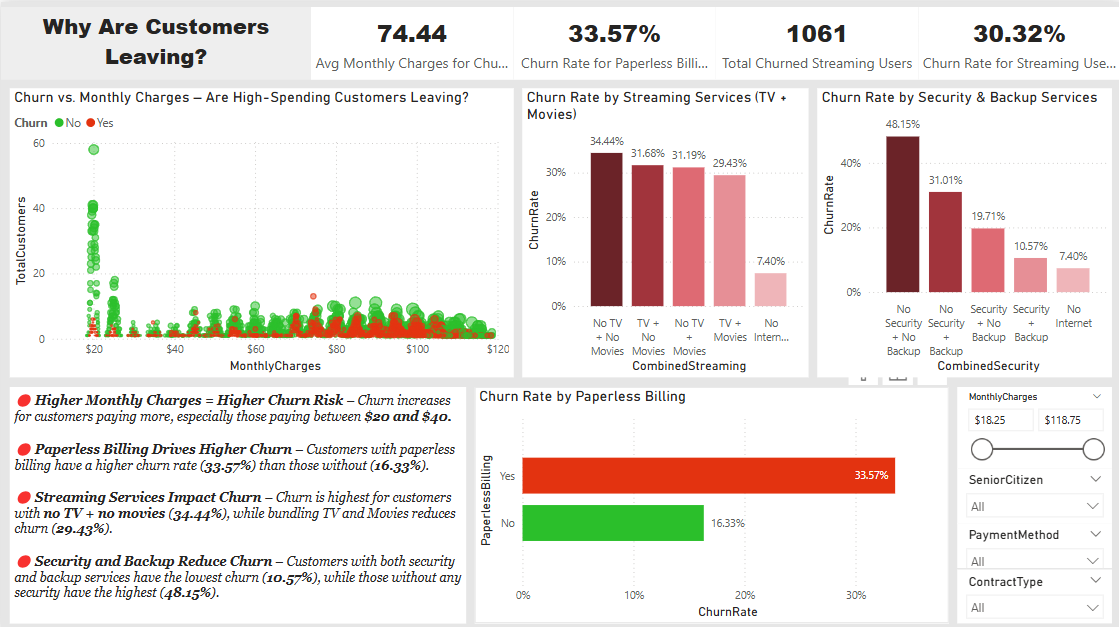

Layout of this report page (visuals, bound fields, positions):
{"tool":"powerbi","page":{"name":"Why Are Customers Leaving?","canvas":[1280,720],"ordinal":2},"visuals":[{"type":"textbox","box":[0,5.7,354.3,82.9],"z":0},{"type":"card","fields":{"Values":["KPI.Avg_Monthly_Charges_Churned Customers"]},"box":[354.3,5.7,231,82.9],"z":1000},{"type":"card","fields":{"Values":["KPI.Churn Rate for Paperless Billing Users"]},"box":[585.7,5.7,231.4,82.9],"z":2000},{"type":"card","fields":{"Values":["KPI.Churn Rate for Streaming Users"]},"box":[1048.6,5.7,231.4,82.9],"z":3000},{"type":"card","fields":{"Values":["KPI.Total Churned Streaming Users"]},"box":[817.1,5.7,231.4,82.9],"z":4000},{"type":"scatterChart","title":"Churn vs. Monthly Charges – Are High-Spending Customers Leaving?","fields":{"X":["Billings.MonthlyCharges"],"Y":["KPI.TotalCustomers"],"Size":["Sum(Billings.TotalCharges)"],"Series":["Churn.Churn"]},"box":[10,98.6,575.7,330],"z":5000},{"type":"clusteredBarChart","title":"Churn Rate by Paperless Billing","fields":{"Y":["KPI.ChurnRate"],"Category":["Contracts.PaperlessBilling"]},"box":[541.4,440,541.4,270],"z":6000},{"type":"clusteredColumnChart","title":"Churn Rate by Streaming Services (TV + Movies)","fields":{"Category":["Services.CombinedStreaming"],"Y":["KPI.ChurnRate"]},"box":[595.7,98.6,327.1,330],"z":7000},{"type":"clusteredColumnChart","title":"Churn Rate by Security & Backup Services","fields":{"Y":["KPI.ChurnRate"],"Category":["Services.CombinedSecurity"]},"box":[932.9,98,337.1,330],"z":8000},{"type":"slicer","fields":{"Values":["Billings.MonthlyCharges"]},"box":[1092.9,440,177.1,92.9],"z":9000},{"type":"slicer","fields":{"Values":["Customers.SeniorCitizen"]},"box":[1092.9,532.9,177.1,62.9],"z":10000},{"type":"slicer","fields":{"Values":["Billings.PaymentMethod"]},"box":[1092.9,595.7,177.1,51.4],"z":11000},{"type":"slicer","fields":{"Values":["Contracts.ContractType"]},"box":[1092.9,648.6,177.1,61.4],"z":12000},{"type":"textbox","box":[10,440,521.4,270],"z":13000}]}

Visuals, with their boxes in screenshot pixels (x1, y1, x2, y2), scaled from the page's 1280x720 canvas onto the 1119x627 screenshot:
textbox: {"left": 0, "top": 5, "right": 310, "bottom": 77}
card - KPI.Avg_Monthly_Charges_Churned Customers: {"left": 310, "top": 5, "right": 512, "bottom": 77}
card - KPI.Churn Rate for Paperless Billing Users: {"left": 512, "top": 5, "right": 714, "bottom": 77}
card - KPI.Churn Rate for Streaming Users: {"left": 917, "top": 5, "right": 1118, "bottom": 77}
card - KPI.Total Churned Streaming Users: {"left": 714, "top": 5, "right": 917, "bottom": 77}
"Churn vs. Monthly Charges – Are High-Spending Customers Leaving?" scatterChart: {"left": 9, "top": 86, "right": 512, "bottom": 373}
"Churn Rate by Paperless Billing" clusteredBarChart: {"left": 473, "top": 383, "right": 947, "bottom": 618}
"Churn Rate by Streaming Services (TV + Movies)" clusteredColumnChart: {"left": 521, "top": 86, "right": 807, "bottom": 373}
"Churn Rate by Security & Backup Services" clusteredColumnChart: {"left": 816, "top": 85, "right": 1110, "bottom": 373}
slicer - Billings.MonthlyCharges: {"left": 955, "top": 383, "right": 1110, "bottom": 464}
slicer - Customers.SeniorCitizen: {"left": 955, "top": 464, "right": 1110, "bottom": 519}
slicer - Billings.PaymentMethod: {"left": 955, "top": 519, "right": 1110, "bottom": 564}
slicer - Contracts.ContractType: {"left": 955, "top": 565, "right": 1110, "bottom": 618}
textbox: {"left": 9, "top": 383, "right": 465, "bottom": 618}
